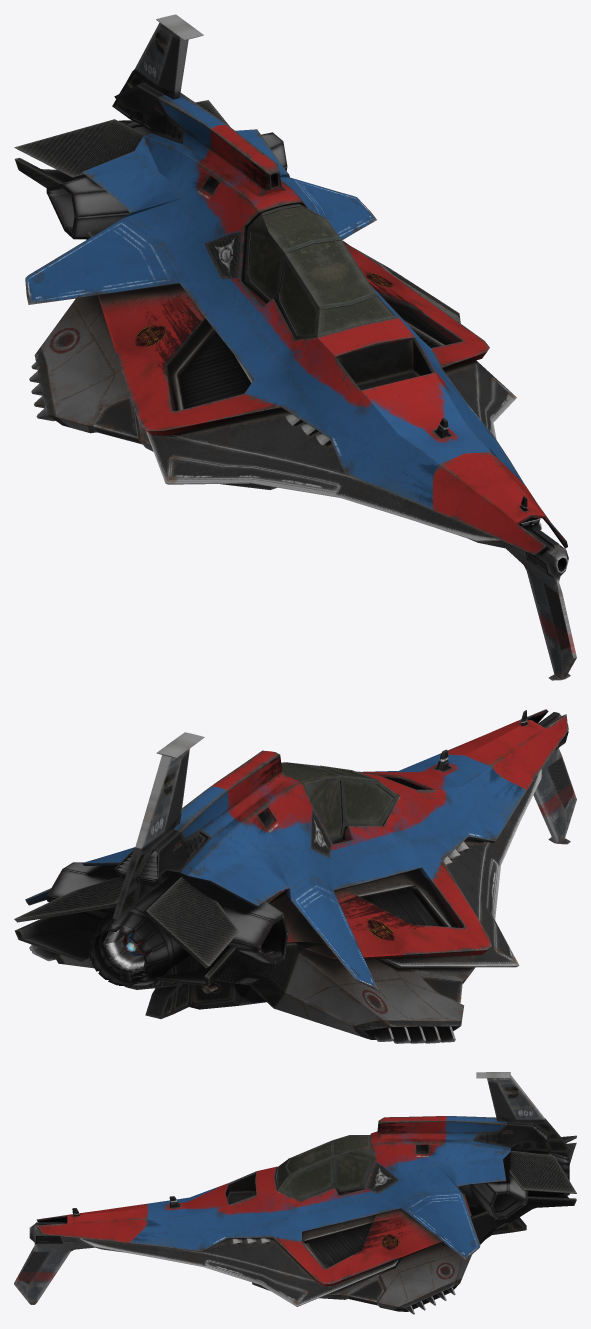
File: Spaceship_6.glb
3 views of the same model, one above another, from view 1: azimuth 30°, elevation 25°; view 2: azimuth 150°, elevation 25°; view 3: azimuth 270°, elevation 25° (orthographic). The views are drawn at different scales.
Parts seen in each view (by area): view 1: Body_ship, Body_ship.001; view 2: Body_ship, Body_ship.001; view 3: Body_ship, Body_ship.001.
Part boxes in pixels (<box>): Body_ship: <box>14,14,576,680</box>; Body_ship.001: <box>244,204,396,339</box>; Body_ship: <box>14,709,576,1043</box>; Body_ship.001: <box>281,762,398,842</box>; Body_ship: <box>14,1072,576,1314</box>; Body_ship.001: <box>274,1135,374,1200</box>.
Bounding box in the file's own units: 0.0582 × 0.0497 × 0.1116.
2 materials, 2 textured.
